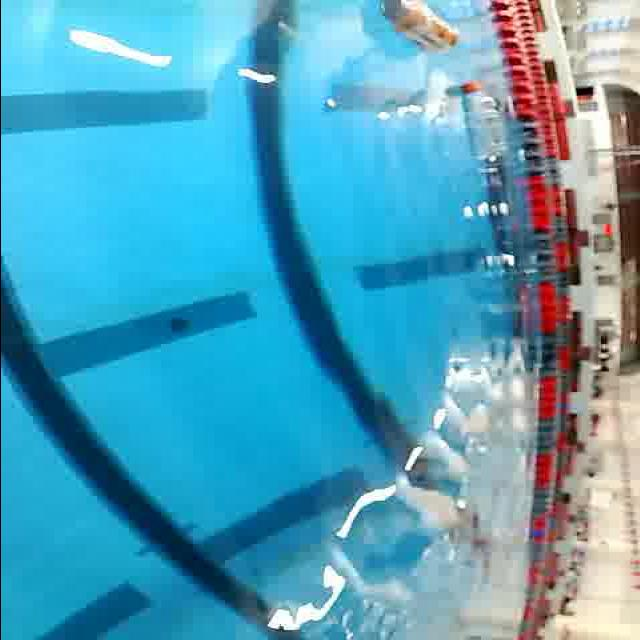Bottle: (447, 73, 517, 163), (372, 0, 469, 58)
